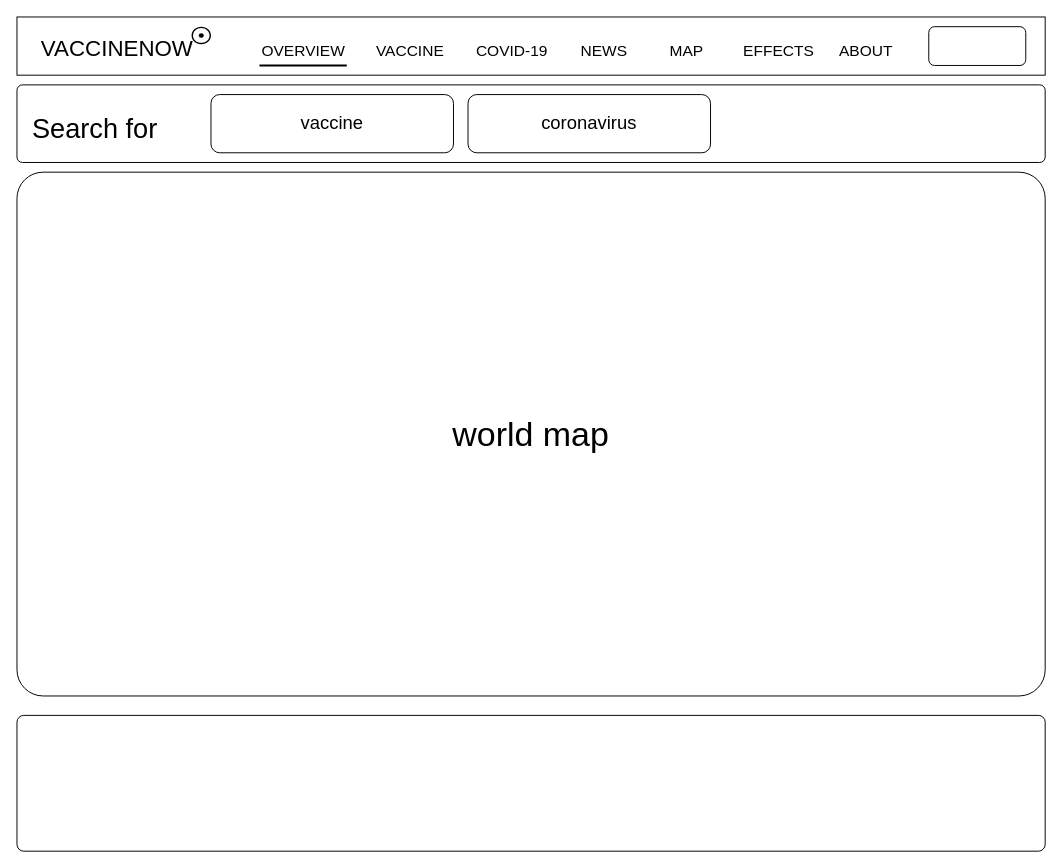
Image size: 1062x868. Some labels were removed from this diagram. The shapes that lost their labels are listed below. From the top down, each one's centre as x and y in pixels, then its label:
At [977,45]: "follow us".
At [530,782]: "FOOTER".
